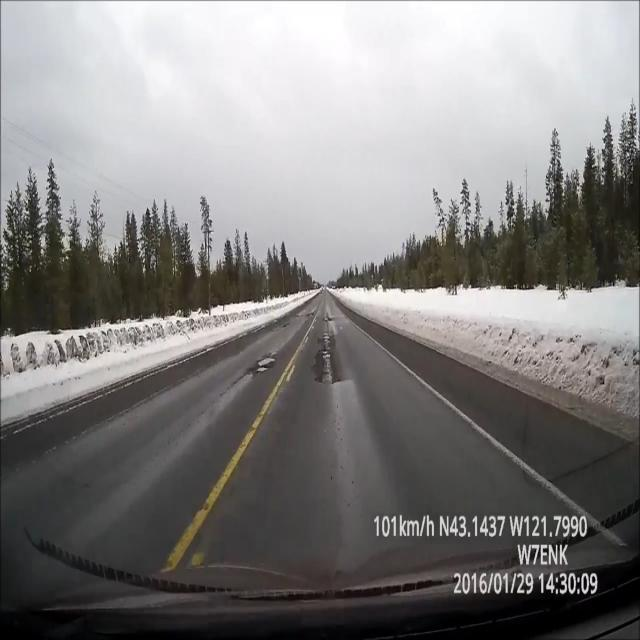pothole: (315, 333, 344, 384), (244, 351, 278, 378)
